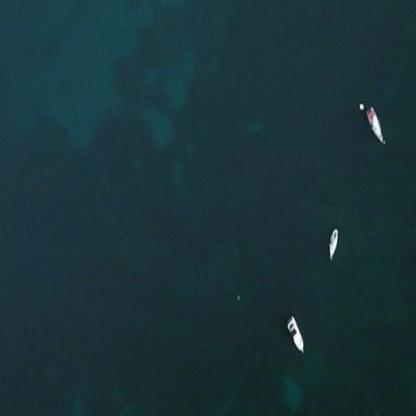ship: (354, 99, 388, 148), (280, 310, 309, 358), (322, 222, 344, 265)
